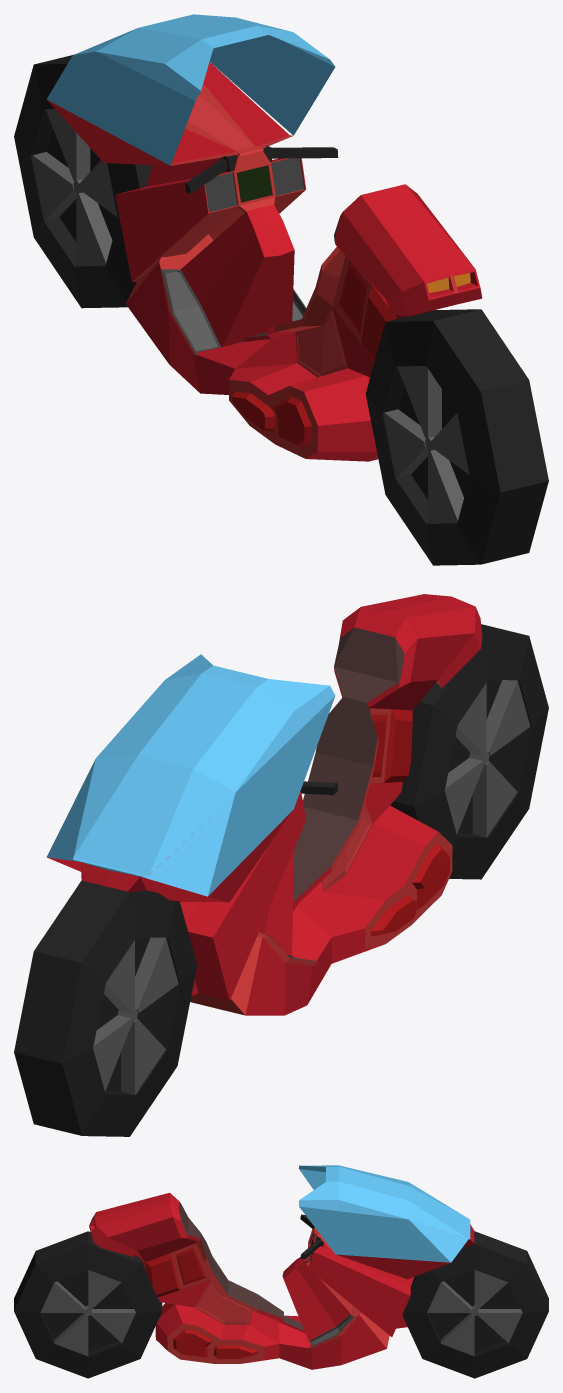
File: nyozuki.glb
3 renders of one model, top to bottom at view 1: azimuth 30°, elevation 25°; view 2: azimuth 150°, elevation 25°; view 3: azimuth 270°, elevation 25°, orthographic. The views are drawn at different scales.
Visible parts, largest first — view 1: Frame, BackWheel, FrontWheel; view 2: Frame, FrontWheel, BackWheel; view 3: Frame, BackWheel, FrontWheel.
Boxes of the visible parts, x1,y1,x2,y2 form: Frame: [46, 14, 482, 461]; BackWheel: [365, 309, 548, 565]; FrontWheel: [14, 55, 152, 308]; Frame: [46, 594, 482, 1015]; FrontWheel: [14, 880, 197, 1136]; BackWheel: [390, 624, 548, 879]; Frame: [89, 1165, 474, 1369]; BackWheel: [14, 1231, 162, 1378]; FrontWheel: [402, 1231, 548, 1378].
Bounding box in the file's own units: 0.4616 × 0.9858 × 2.41.
1 material, 1 textured.
